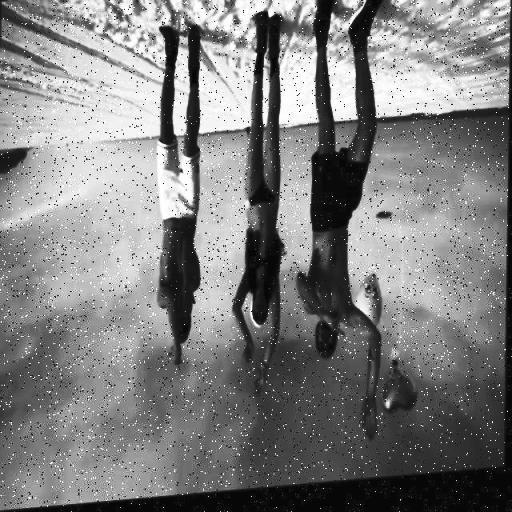balloon: (380, 371, 420, 419), (354, 280, 382, 337)
